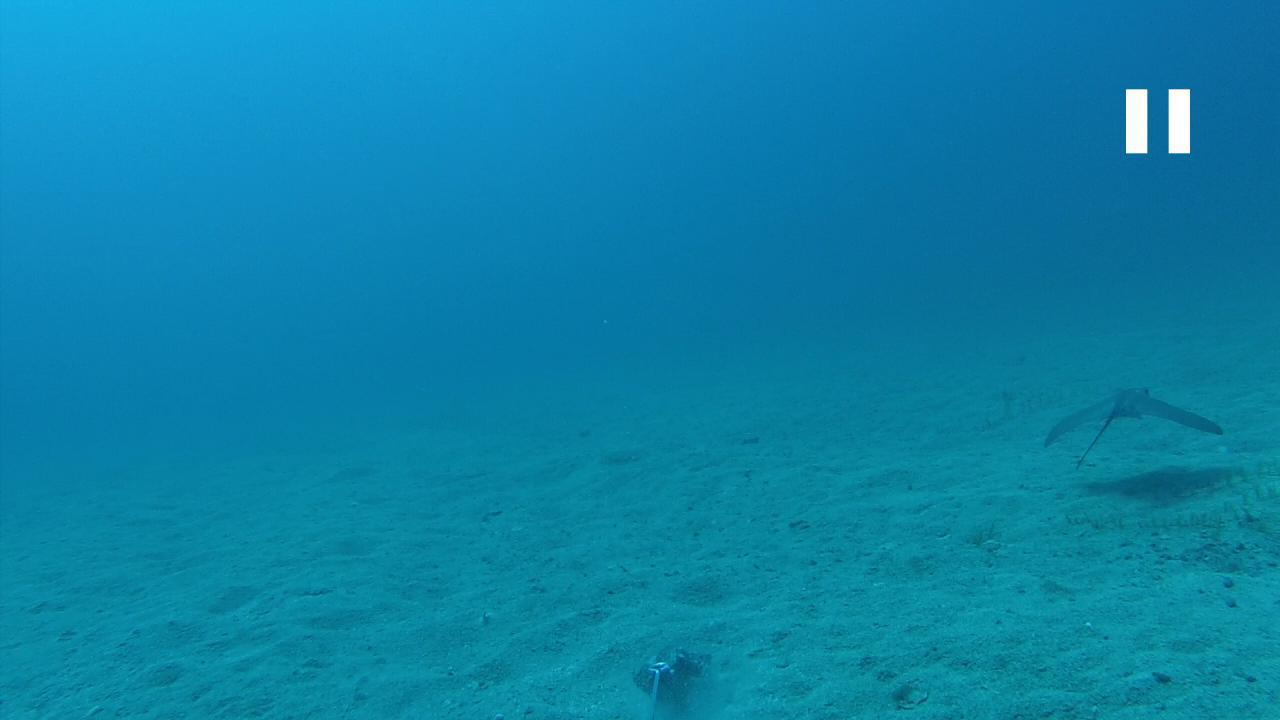dasyatis: (1044, 386, 1224, 468)
